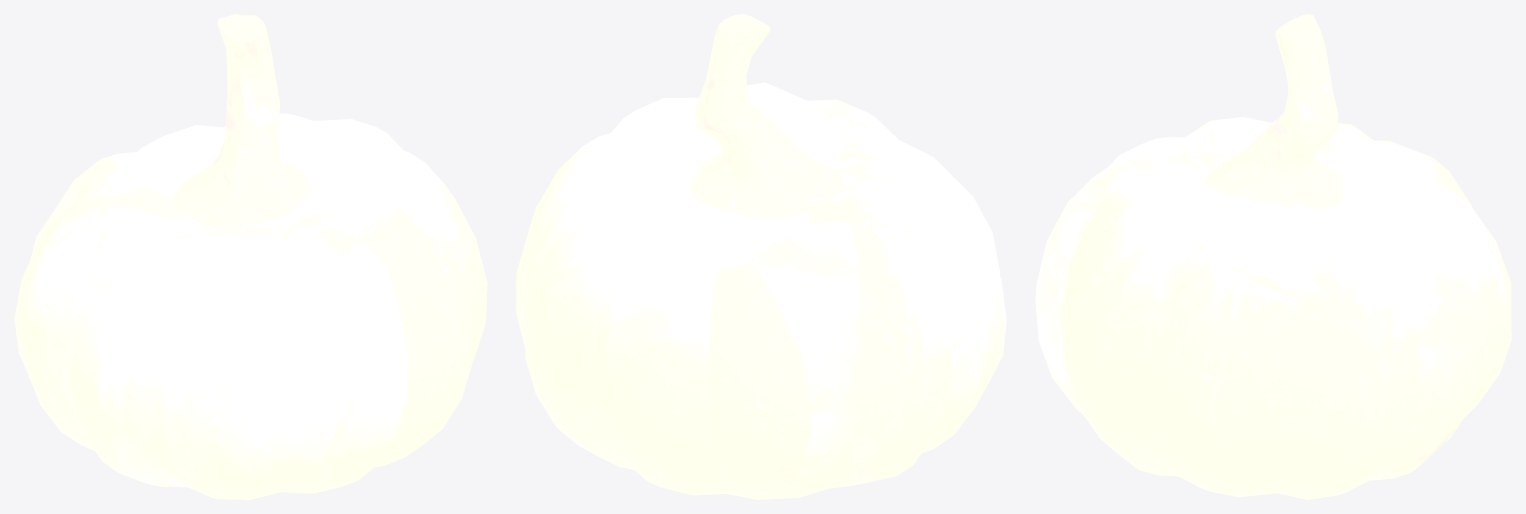
The picture shows the model from 3 angles, left to right: view 1: azimuth 30°, elevation 25°; view 2: azimuth 150°, elevation 25°; view 3: azimuth 270°, elevation 25°; orthographic projection. The views are drawn at different scales.
Parts seen in each view (by area): view 1: SM_Pumpkin_02v4_LOD0; view 2: SM_Pumpkin_02v4_LOD0; view 3: SM_Pumpkin_02v4_LOD0.
Part boxes in pixels (x1,y1,x2,y2): SM_Pumpkin_02v4_LOD0: [14, 14, 487, 499]; SM_Pumpkin_02v4_LOD0: [516, 14, 1006, 499]; SM_Pumpkin_02v4_LOD0: [1035, 14, 1511, 499].
Bounding box in the file's own units: 1.01 × 0.9825 × 1.01.
